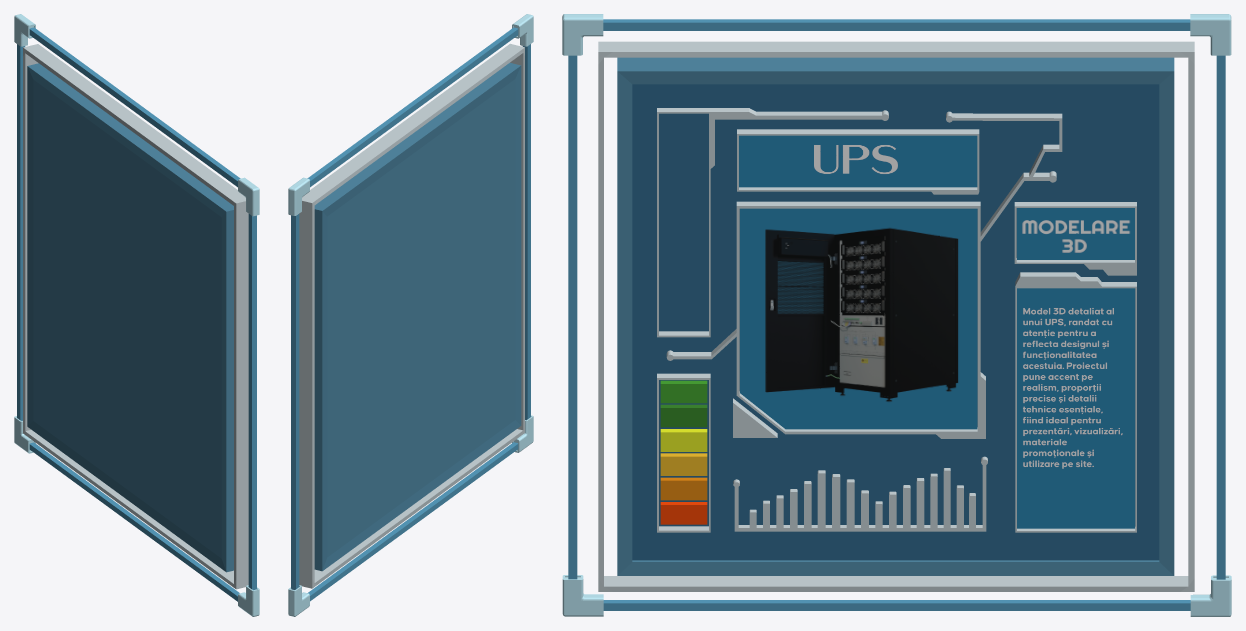
File: disketa-UPS.glb
3 views of the same model, side by side, from view 1: azimuth 30°, elevation 25°; view 2: azimuth 150°, elevation 25°; view 3: azimuth 270°, elevation 25° (orthographic). The views are drawn at different scales.
Parts seen in each view (by area): view 1: rama_interior, rama_dintre, rama_exterioara, colt_stanga_jos; view 2: rama_interior, rama_dintre, rama_exterioara, colt_stanga_jos; view 3: fundalinterior, panou_logo, rama_interior, panou_text, rama_dintre, rama_exterioara, panou_titlu, rama_logo, grafic, panou_tema, colt_stanga_jos, stanga_spatiugolbaterie (+11 smaller).
Part boxes in pixels (box(x1,y1,x2,y2)): rama_interior: box(27, 63, 233, 572); rama_dintre: box(23, 44, 248, 589); rama_exterioara: box(17, 27, 256, 601); colt_stanga_jos: box(14, 14, 259, 616); rama_interior: box(314, 63, 521, 571); rama_dintre: box(299, 43, 524, 588); rama_exterioara: box(291, 27, 530, 601); colt_stanga_jos: box(288, 14, 533, 616); fundalinterior: box(632, 84, 1159, 560); panou_logo: box(740, 208, 977, 429); rama_interior: box(617, 57, 1174, 575); panou_text: box(1017, 288, 1134, 528); rama_dintre: box(598, 41, 1194, 591); rama_exterioara: box(568, 19, 1225, 610); panou_titlu: box(739, 135, 977, 187); rama_logo: box(666, 111, 1062, 438); grafic: box(733, 456, 987, 531); panou_tema: box(1017, 208, 1134, 259); colt_stanga_jos: box(562, 14, 1231, 616); stanga_spatiugolbaterie: box(657, 108, 888, 337).
Bounding box in the file's own units: 0.4011 × 6.77 × 6.85.
23 materials, 4 textured.
